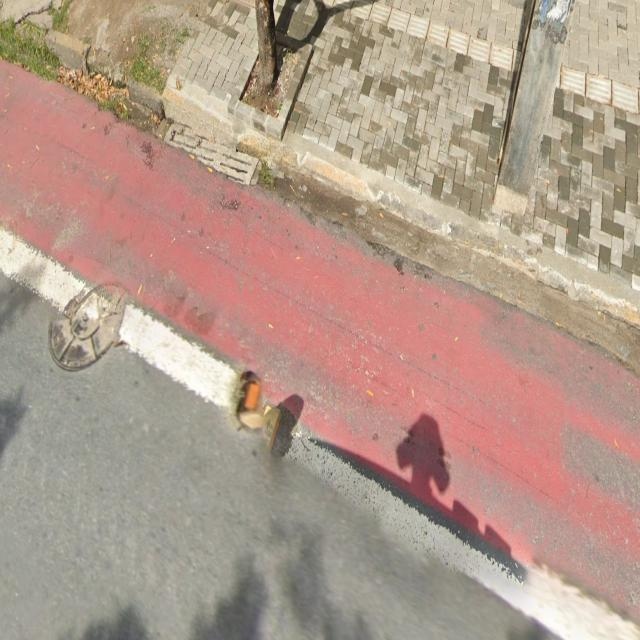Bueiro: (44, 241, 149, 372)
